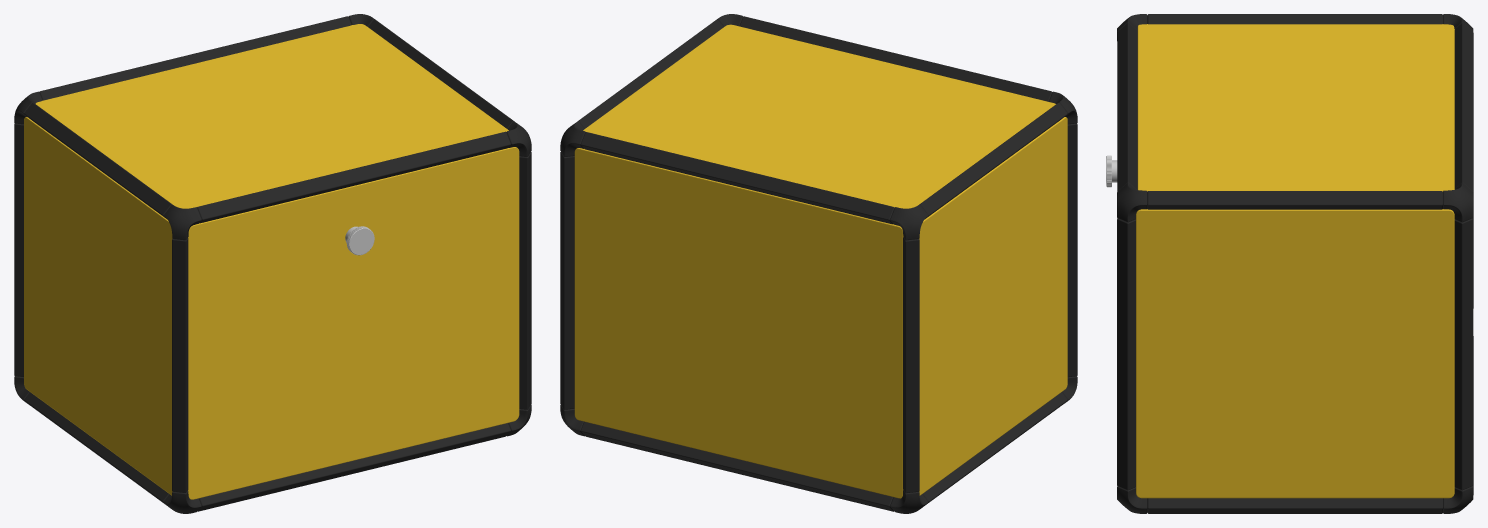
3 views of the same model, side by side, from view 1: azimuth 30°, elevation 25°; view 2: azimuth 150°, elevation 25°; view 3: azimuth 270°, elevation 25° (orthographic). The views are drawn at different scales.
Visible parts, largest first — view 1: 479x374x374; view 2: 479x374x374; view 3: 479x374x374.
Boxes of the visible parts, bbox=[...] form: 479x374x374: bbox=[14, 14, 531, 513]; 479x374x374: bbox=[560, 14, 1077, 513]; 479x374x374: bbox=[1106, 14, 1473, 513].
Bounding box in the file's own units: 0.5567 × 0.4516 × 0.4646.
